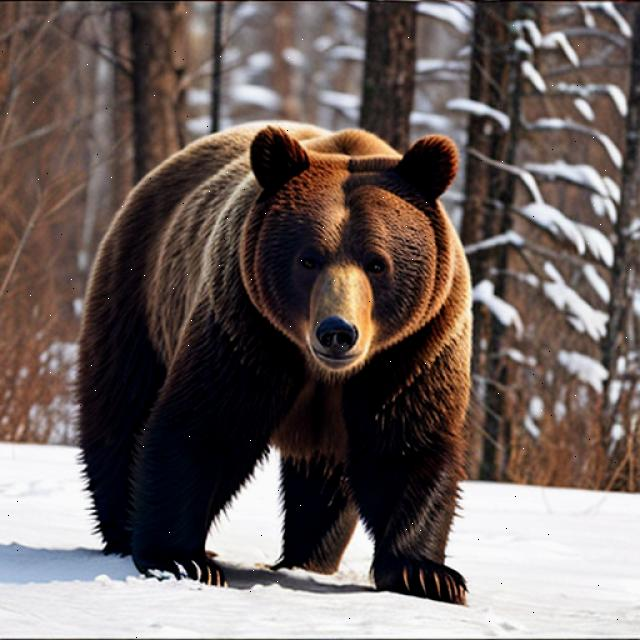bear: (204, 104, 482, 386)
